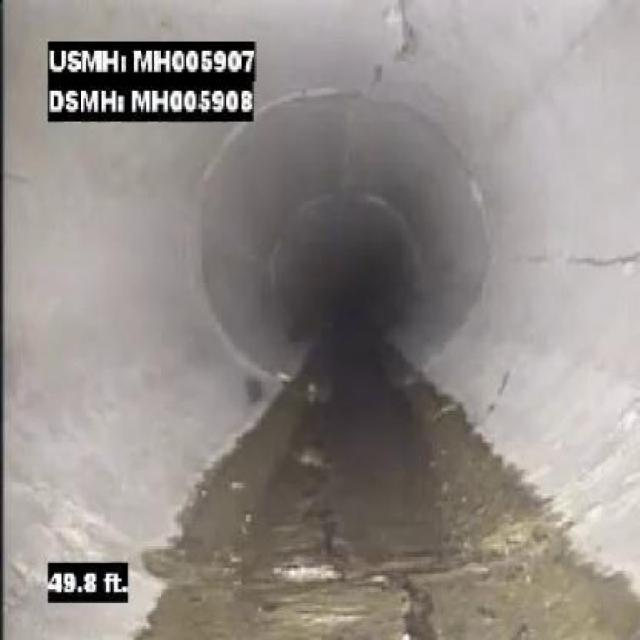Buckling: (294, 486, 498, 639)
Crack: (360, 0, 438, 105), (540, 222, 638, 280)
